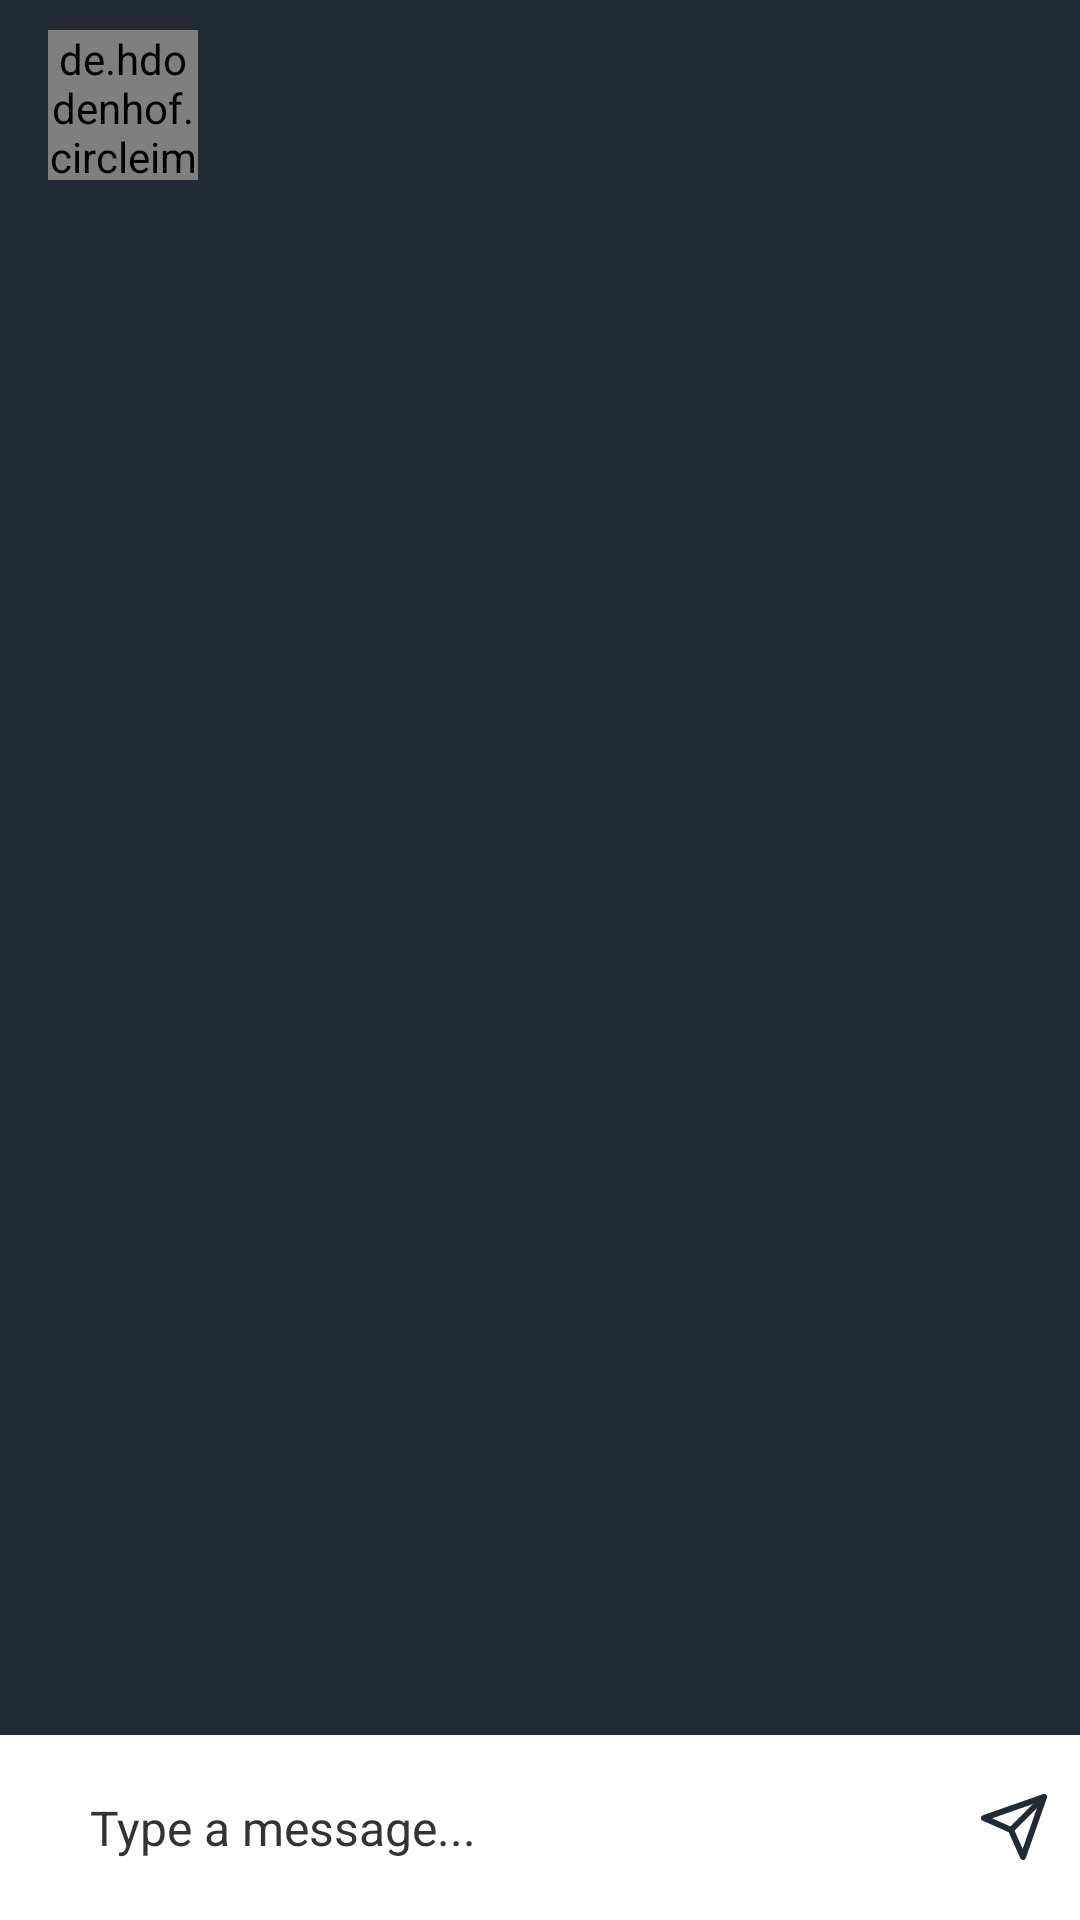

Icons on this 1080*1920 Android screen, each with its box as region(x1, y1, x2, y2):
send: region(981, 1794, 1047, 1860)
